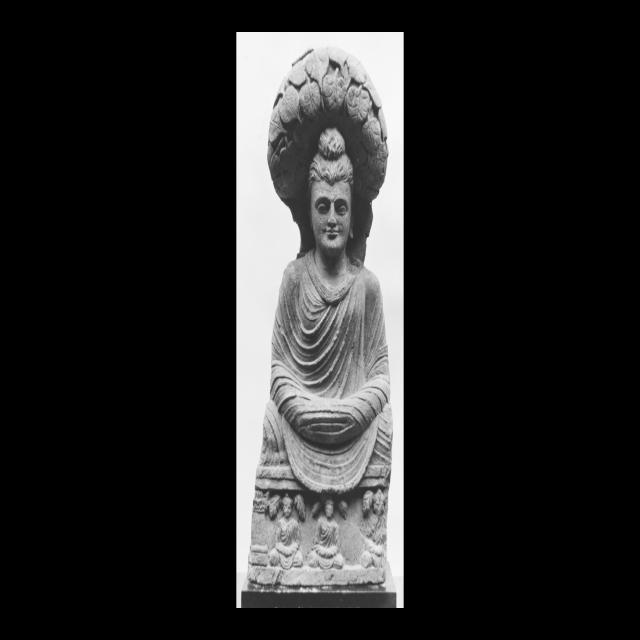buddha-sitting: (249, 47, 395, 601)
